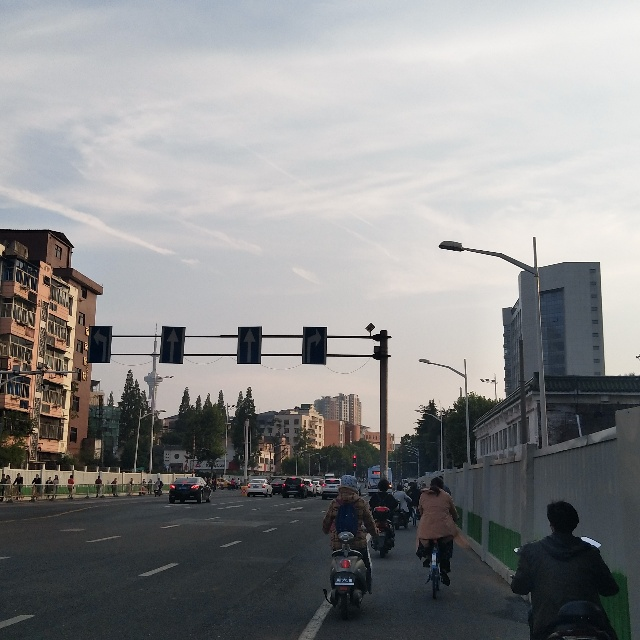left: (85, 325, 109, 359)
right: (302, 326, 328, 362)
straight: (236, 327, 262, 363), (164, 326, 183, 362)
